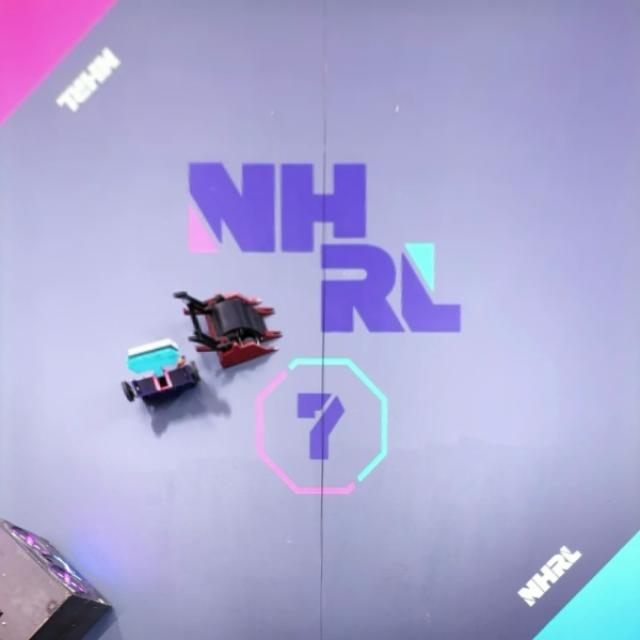housebot: (0, 515, 114, 640)
robot: (171, 291, 282, 368), (123, 338, 200, 402)
